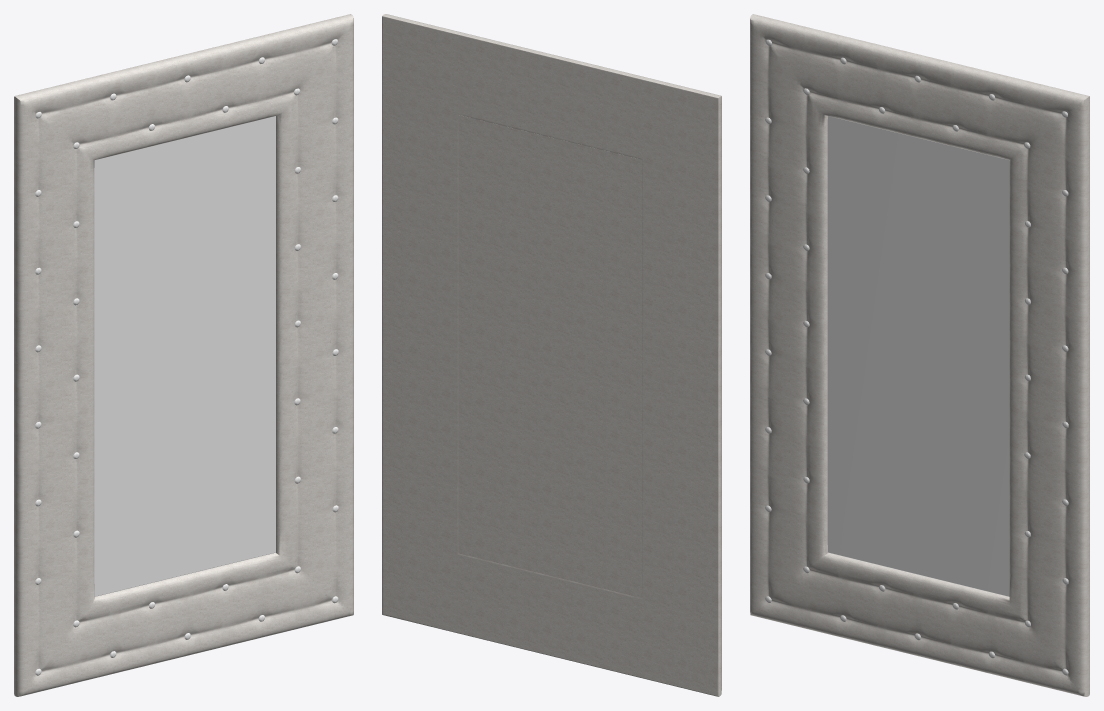
The model's file is Mirror_3.glb.
3 renders of one model, left to right at view 1: azimuth 30°, elevation 25°; view 2: azimuth 150°, elevation 25°; view 3: azimuth 330°, elevation 25°, orthographic.
Visible parts, largest first — view 1: Object_3, Object_4, Object_5; view 2: Object_3, Object_2; view 3: Object_3, Object_4, Object_5.
Boxes of the visible parts, x1,y1,x2,y2 form: Object_3: [14, 14, 353, 696]; Object_4: [94, 116, 275, 596]; Object_5: [35, 39, 338, 675]; Object_3: [382, 14, 721, 696]; Object_2: [458, 115, 642, 597]; Object_3: [750, 14, 1089, 696]; Object_4: [827, 116, 1009, 596]; Object_5: [765, 39, 1068, 675].
Bounding box in the file's own units: 1000 × 1700 × 29.86.
Materials: 2 (1 with a texture image).
